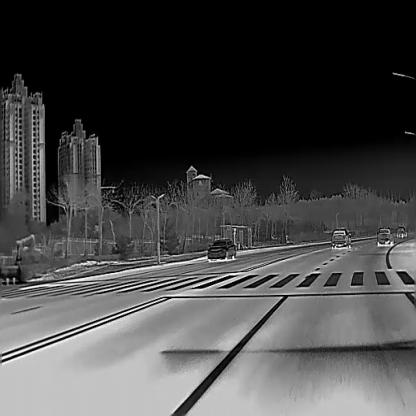car: (207, 238, 236, 260), (330, 228, 351, 250), (376, 226, 394, 245), (395, 226, 407, 237)
